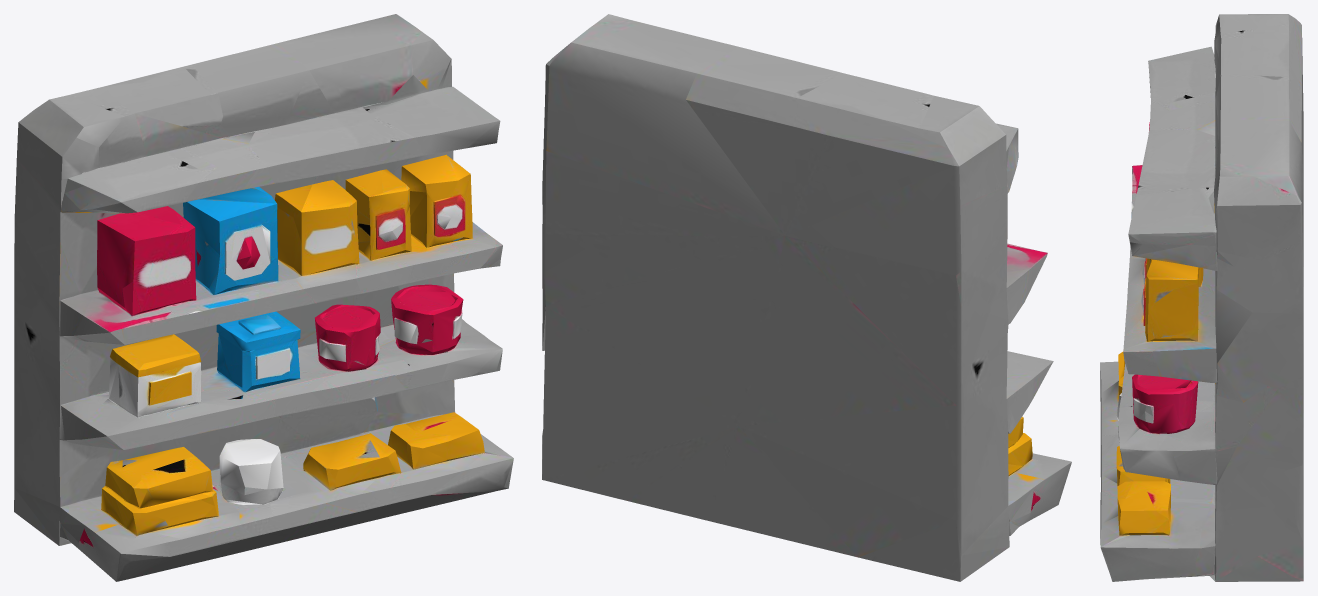
File: shop-display.glb
3 views of the same model, side by side, from view 1: azimuth 30°, elevation 25°; view 2: azimuth 150°, elevation 25°; view 3: azimuth 270°, elevation 25° (orthographic). The views are drawn at different scales.
Parts seen in each view (by area): view 1: output_unwrapped; view 2: output_unwrapped; view 3: output_unwrapped.
Boxes of the visible parts, left/top/right/bottom form: output_unwrapped: left=14, top=14, right=513, bottom=581; output_unwrapped: left=542, top=14, right=1071, bottom=581; output_unwrapped: left=1100, top=14, right=1303, bottom=581.
Size of the model in its own units: 1.9 by 1.89 by 0.8814.
1 material, 1 textured.
